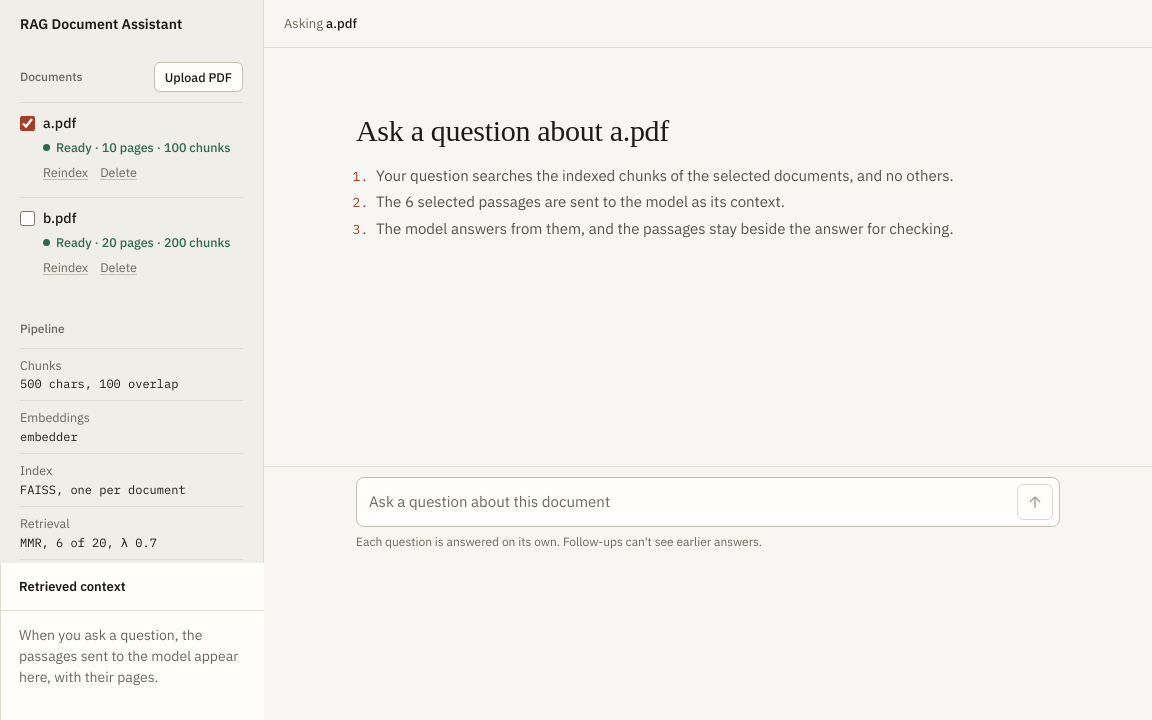
question flow › uses plural wording when several documents don't contain the answer
The image size is (1152, 720).
Click the checkbox labelled "b.pdf" at (28, 218), box [20, 211, 35, 226]
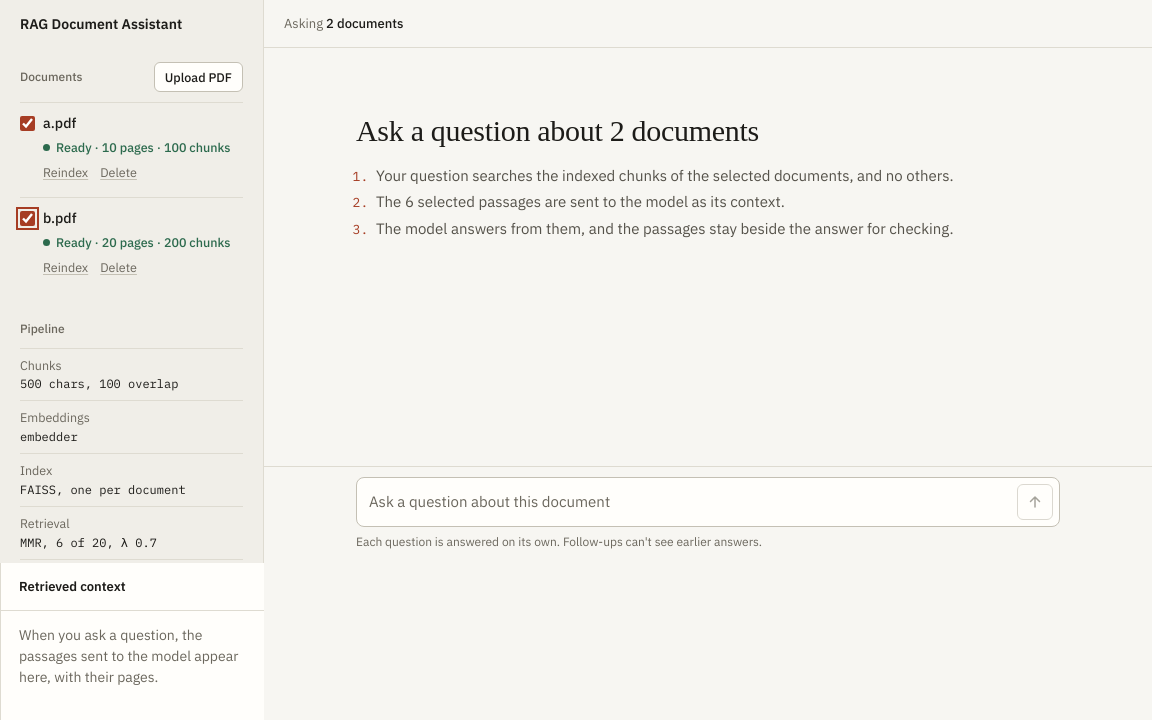
Type "What is it?" into the text box named "Question about the document" at (689, 502), box [369, 484, 1009, 520]
Then press Enter
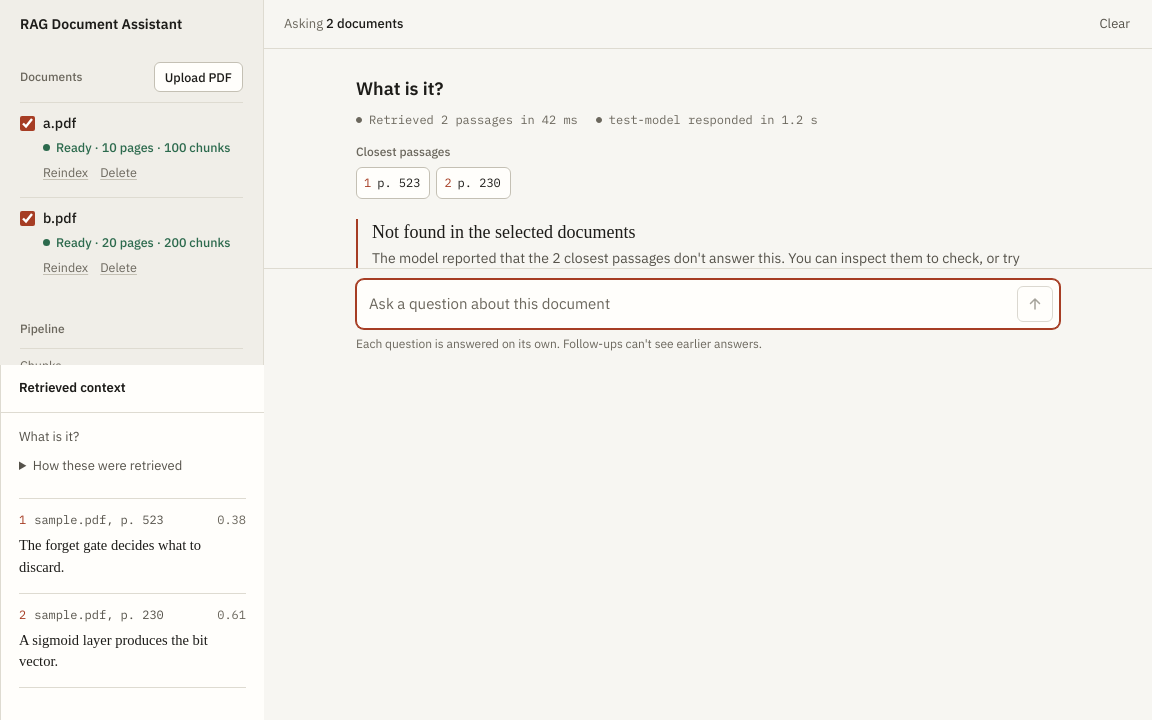
Expected: the text "Not found in the selected documents" is shown, [372, 222, 635, 242]
